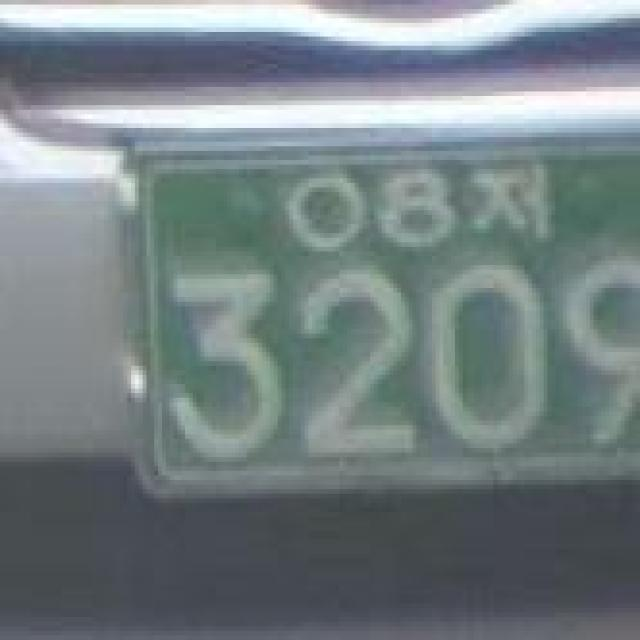illegal_plate: (118, 108, 640, 521)
